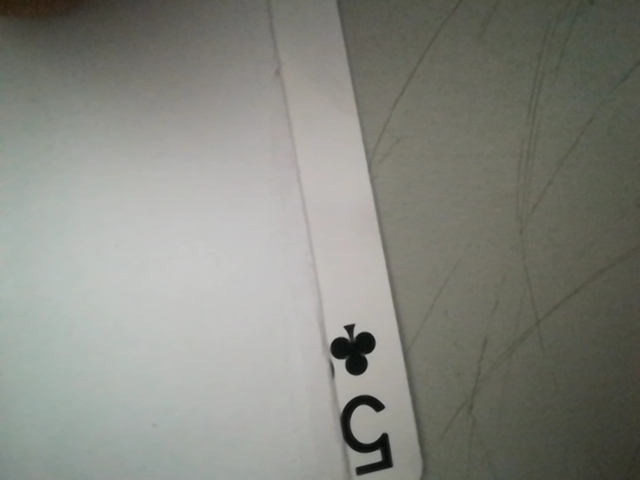mh 5: (321, 312, 413, 480)
